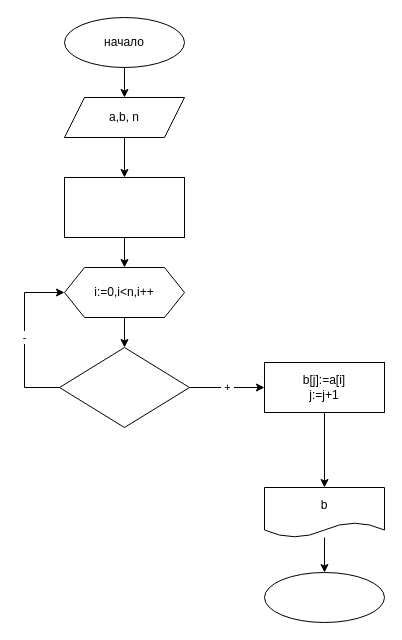
Image size: 402x640. Some labels were removed from this diagram. Each missing label, with the box of its shape:
a[i]<=3: (58, 346, 190, 428)
n=5 a:=[n] b:=a.Length j:=0: (64, 176, 184, 238)
конец: (264, 572, 384, 622)
